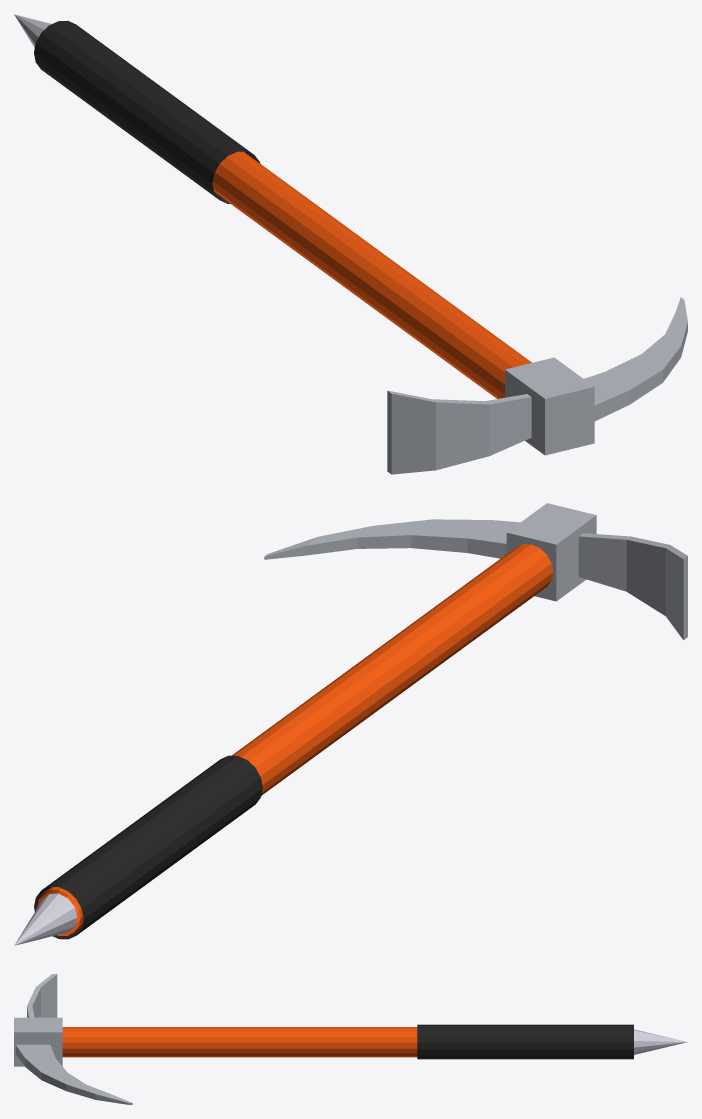
The model's file is ice_axe.obj.
3 views of the same model, one above another, from view 1: azimuth 30°, elevation 25°; view 2: azimuth 150°, elevation 25°; view 3: azimuth 270°, elevation 25° (orthographic). The views are drawn at different scales.
Size of the model in its own units: 0.23 by 0.05 by 0.6225.
